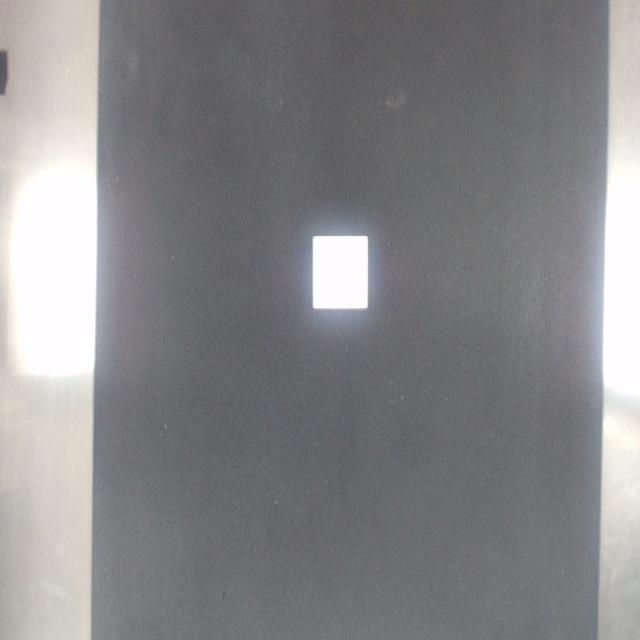Blanco: (313, 236, 367, 308)
